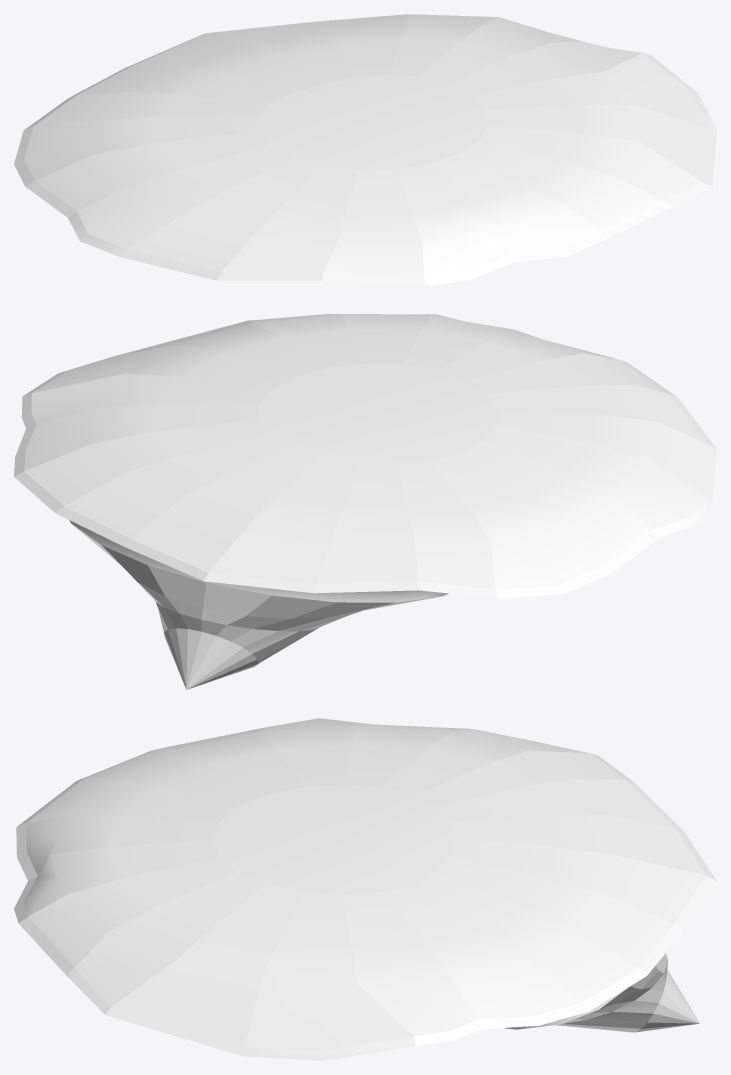
Rendered from shelf_coral_down.fbx.
3 renders of one model, top to bottom at view 1: azimuth 30°, elevation 25°; view 2: azimuth 150°, elevation 25°; view 3: azimuth 270°, elevation 25°, orthographic. The views are drawn at different scales.
Visible parts, largest first — view 1: pCylinder1; view 2: pCylinder1; view 3: pCylinder1.
Boxes of the visible parts, <box> form: pCylinder1: <box>14,14,716,285</box>; pCylinder1: <box>14,314,716,689</box>; pCylinder1: <box>14,718,716,1060</box>.
Bounding box in the file's own units: 7.21 × 1.76 × 6.38.
1 material, 1 textured.
